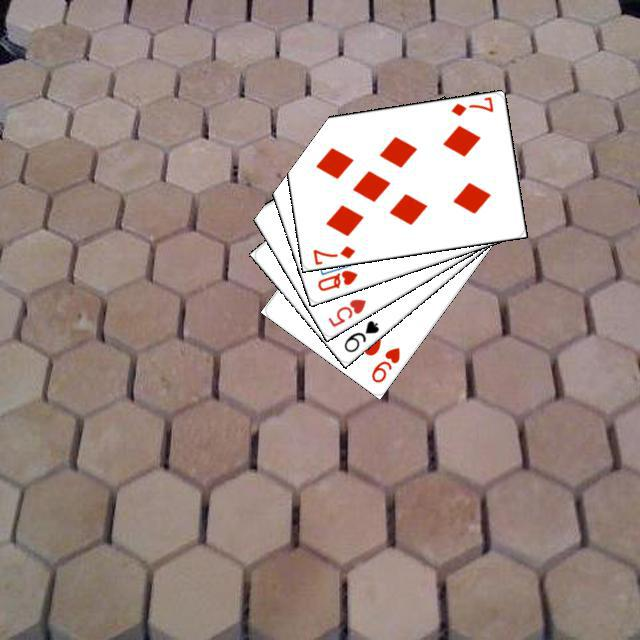5h: (323, 294, 368, 329)
7d: (308, 241, 357, 265), (446, 93, 495, 117)
9h: (366, 342, 402, 385)
9s: (339, 315, 381, 354)
Qh: (312, 265, 359, 293)
